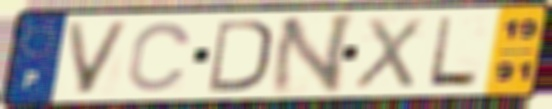C: (124, 19, 195, 94)
D: (206, 17, 274, 95)
L: (424, 14, 481, 88)
N: (265, 11, 360, 97)
V: (62, 20, 135, 97)
X: (350, 15, 426, 92)
